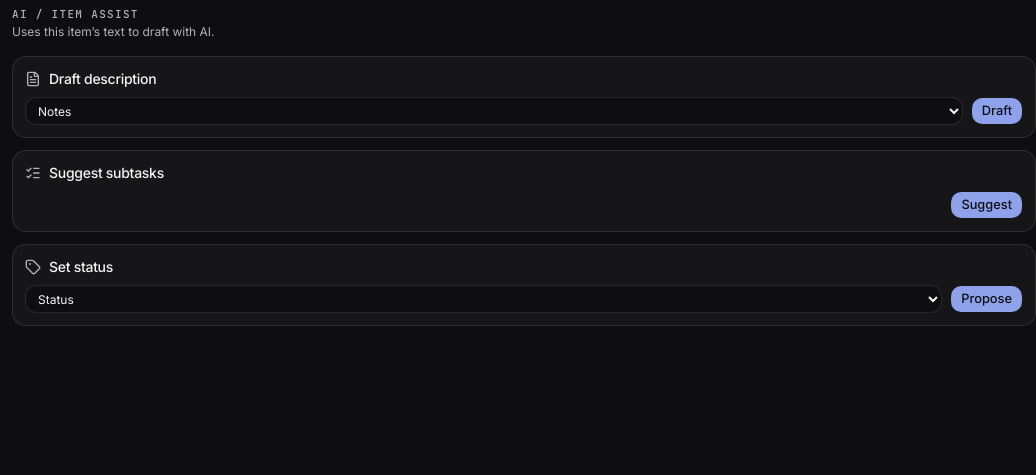
Test case: ItemAssistPanel › shows an inline error when applying fails
Step 1. Click the button "Draft" → click(997, 111), box [971,97,1023,125]
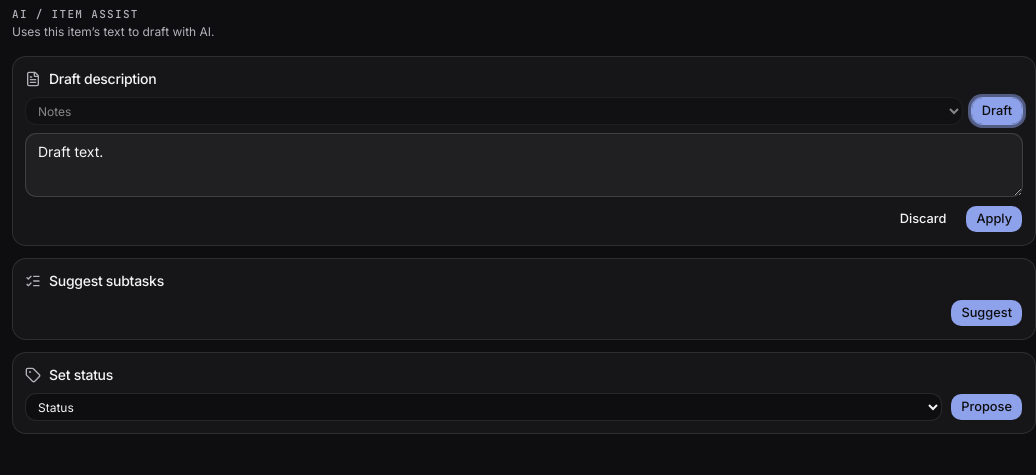
Check: the text box named "proposed description" is shown, box [25,133,1023,197]
Step 2. Click the button "Apply" → click(994, 219), box [965,205,1023,233]
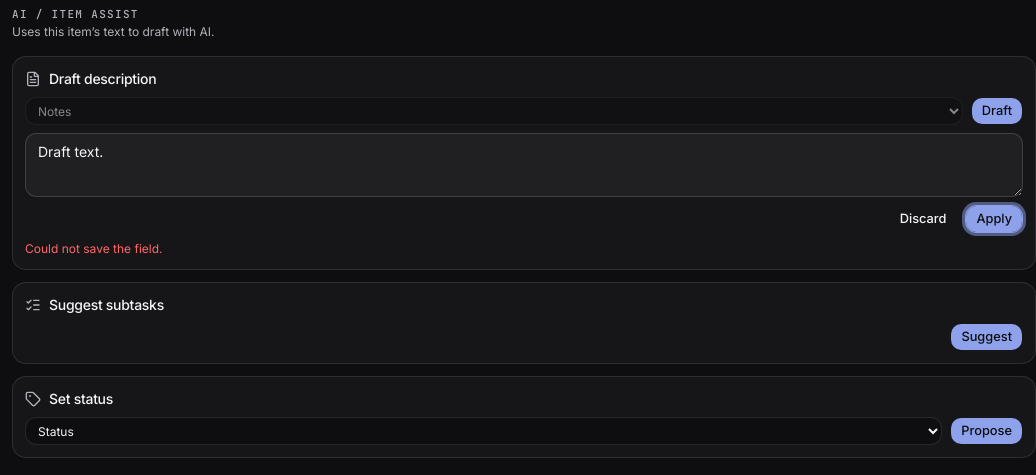
Check: the message reads "Could not save the field.", box [25,241,162,256]
